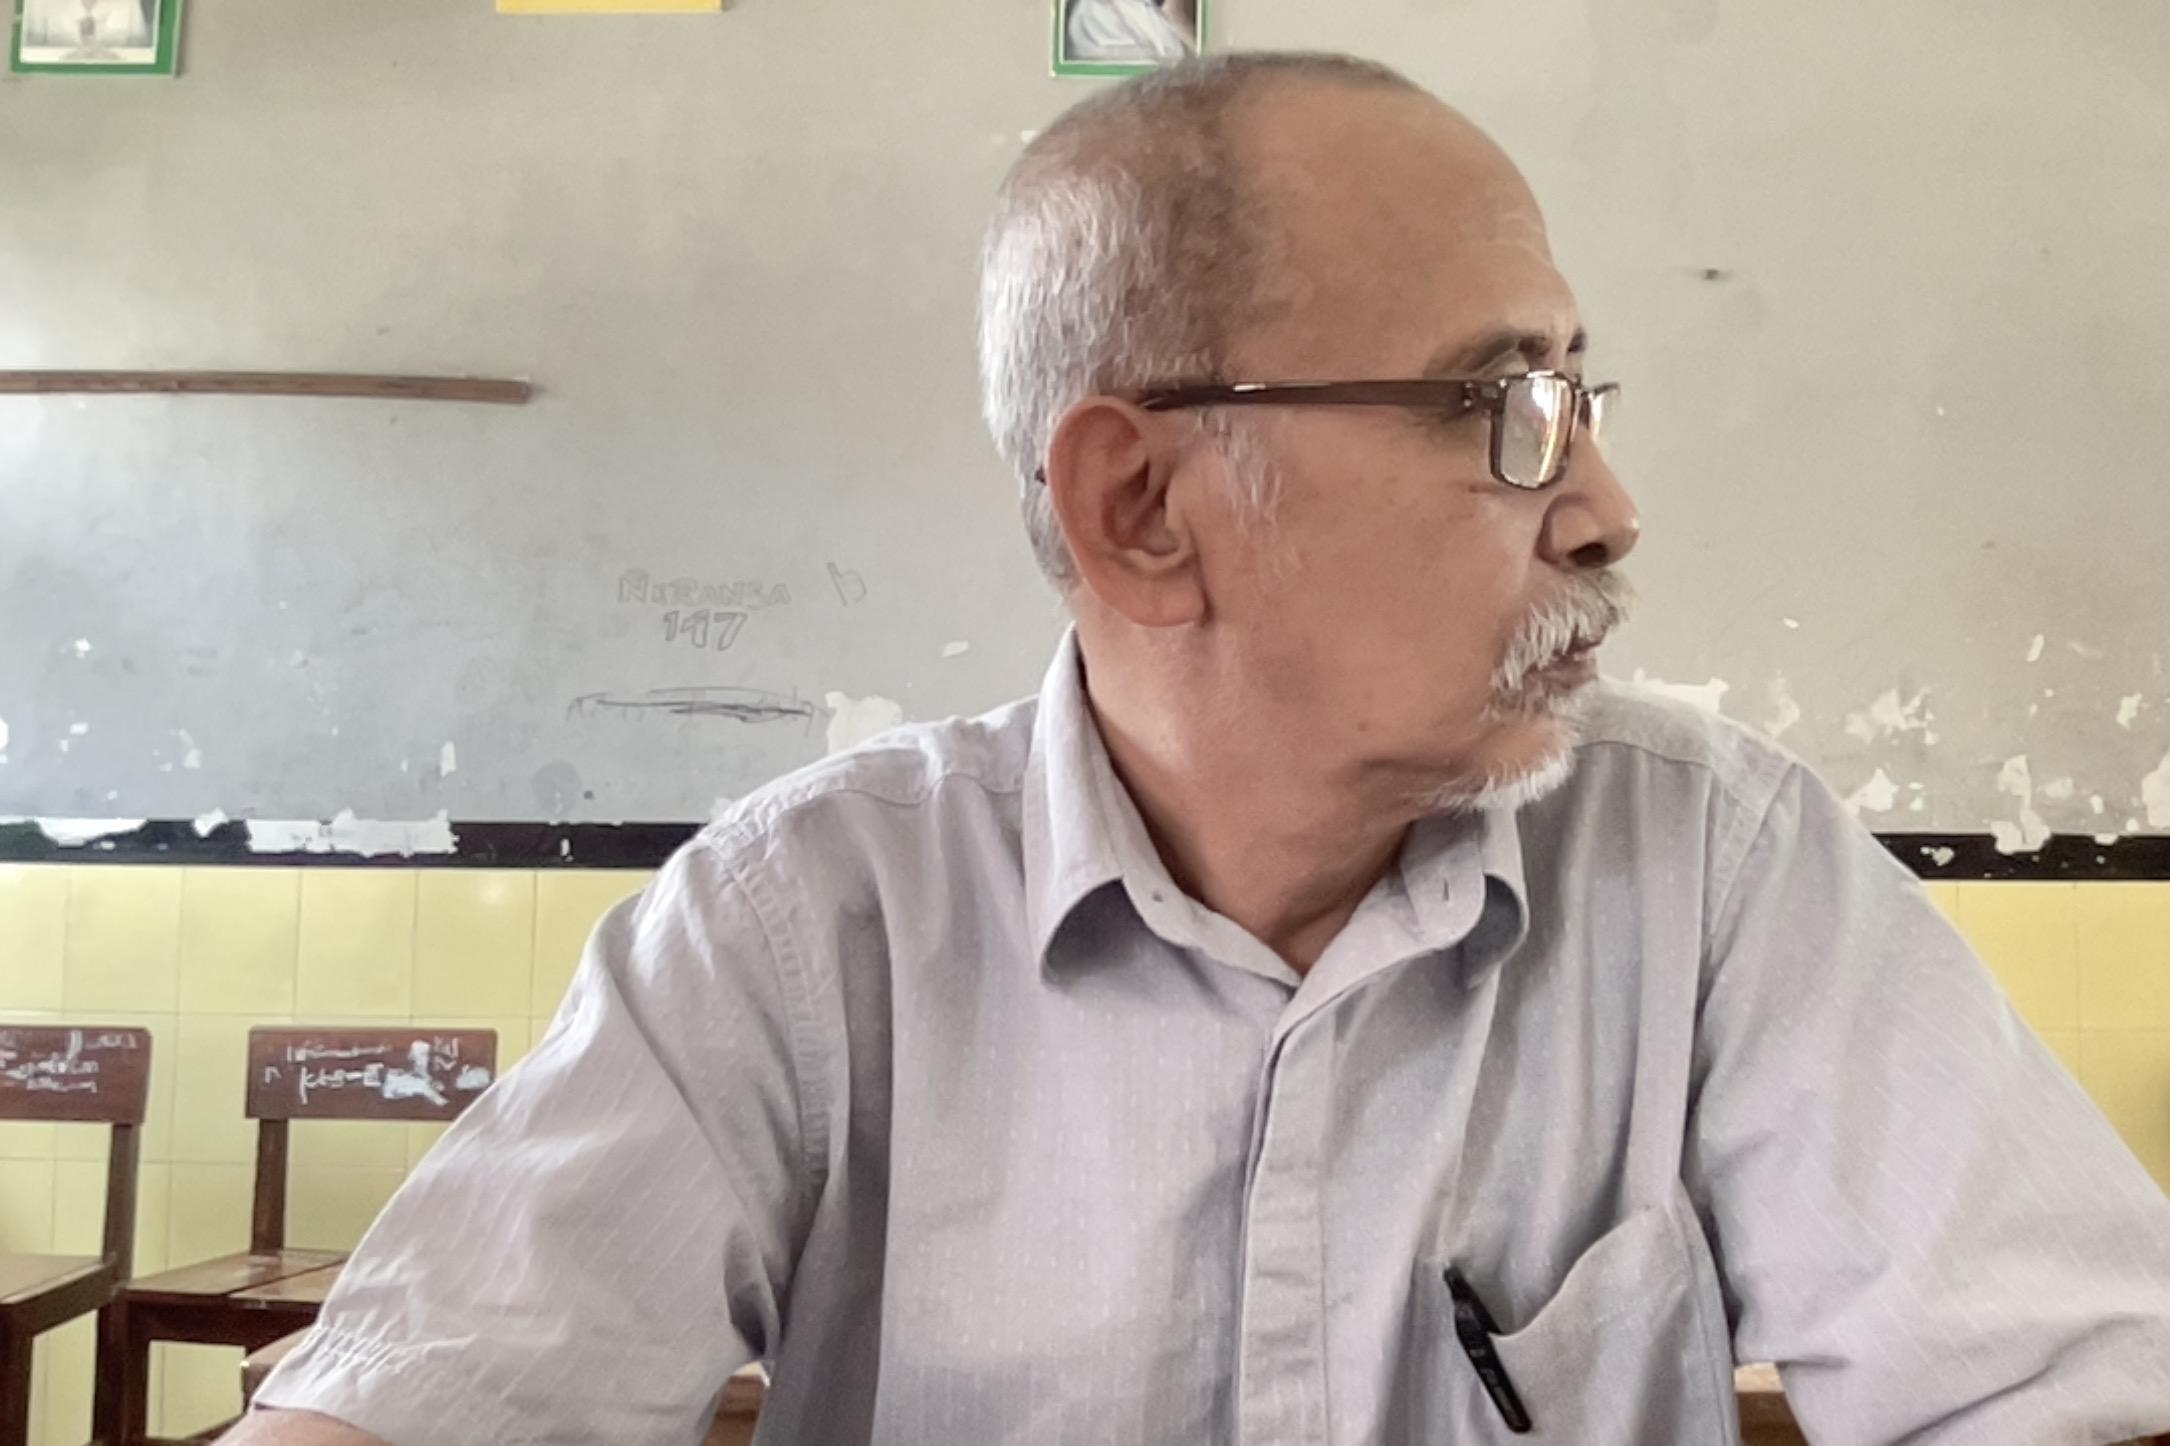cheating: (200, 37, 2170, 1446)
